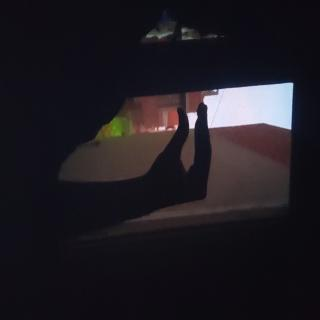JEEM: (72, 138, 160, 239)
